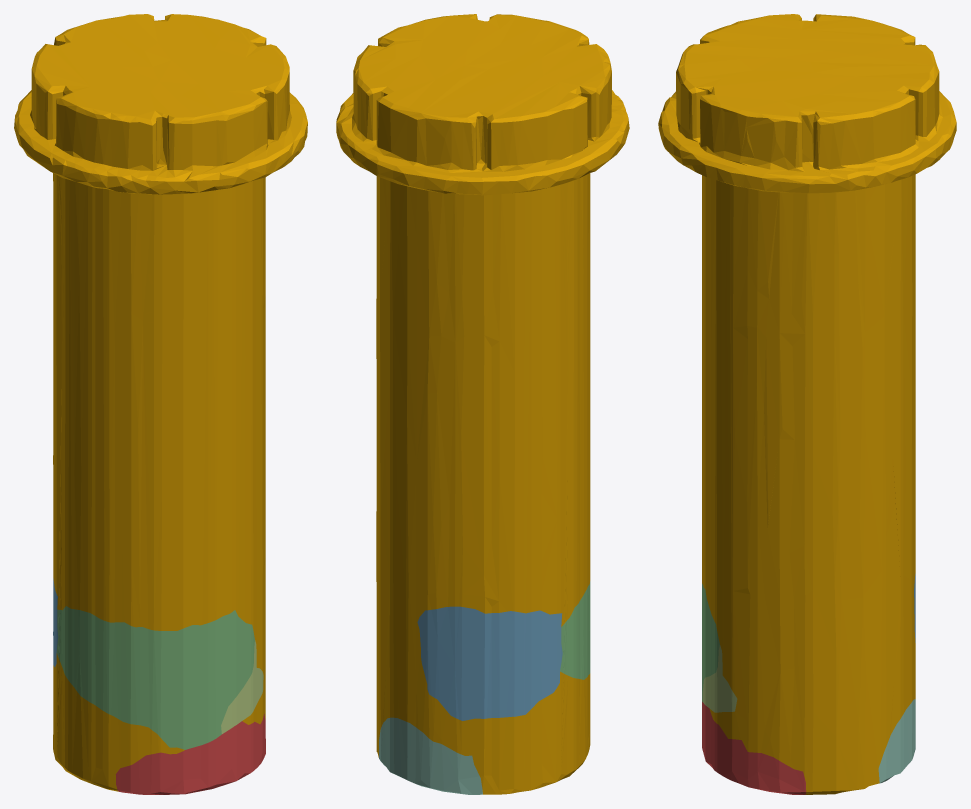
File: mode_19_6pcs.glb
3 views of the same model, side by side, from view 1: azimuth 30°, elevation 25°; view 2: azimuth 150°, elevation 25°; view 3: azimuth 270°, elevation 25° (orthographic).
Visible parts, largest first — view 1: piece_0.obj, piece_3.obj, piece_1.obj, piece_5.obj; view 2: piece_0.obj, piece_2.obj, piece_4.obj, piece_3.obj; view 3: piece_0.obj, piece_1.obj, piece_4.obj, piece_5.obj, piece_3.obj.
Part boxes in pixels (bbox=[...]): piece_0.obj: bbox=[14, 14, 307, 791]; piece_3.obj: bbox=[56, 606, 254, 749]; piece_1.obj: bbox=[115, 714, 265, 794]; piece_5.obj: bbox=[221, 640, 263, 733]; piece_0.obj: bbox=[336, 14, 629, 794]; piece_2.obj: bbox=[417, 606, 562, 720]; piece_4.obj: bbox=[379, 717, 482, 794]; piece_3.obj: bbox=[560, 581, 590, 679]; piece_0.obj: bbox=[658, 14, 956, 794]; piece_1.obj: bbox=[702, 702, 806, 794]; piece_4.obj: bbox=[878, 699, 915, 783]; piece_5.obj: bbox=[702, 645, 737, 712]; piece_3.obj: bbox=[702, 583, 719, 701].
Bounding box in the file's own units: 0.3863 × 1 × 0.3933.
